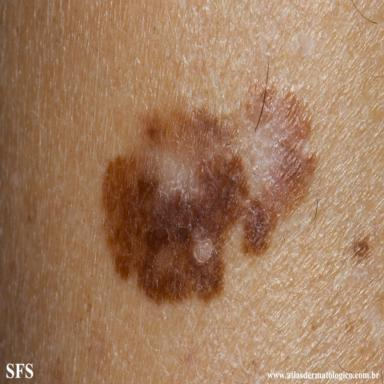Melanoma: (103, 85, 316, 302)
